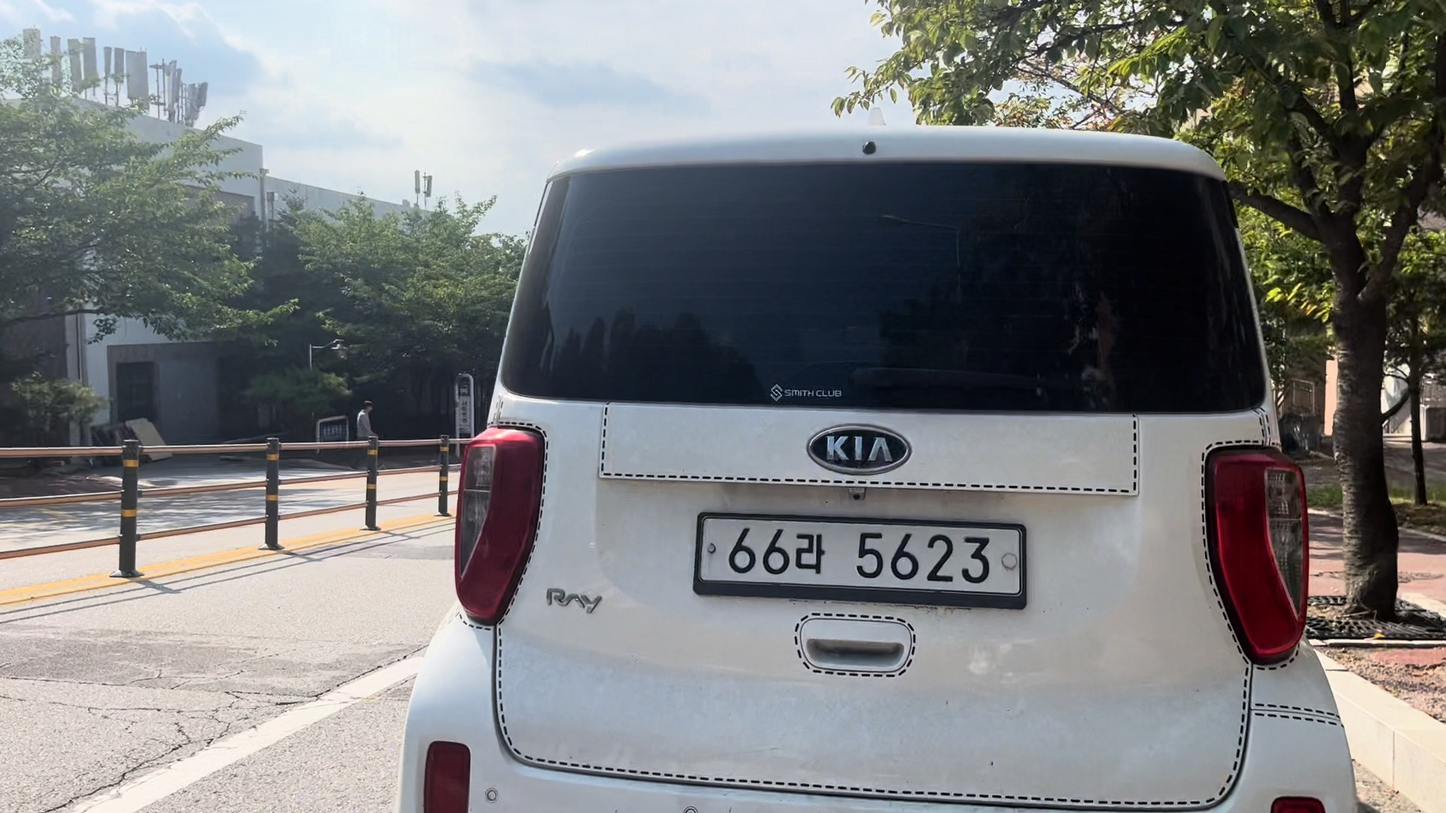car_emblem: (810, 427, 910, 473)
license_plate: (694, 514, 1025, 608)
tail_light: (1207, 449, 1308, 664), (456, 428, 545, 625), (423, 741, 469, 812), (1271, 798, 1324, 812)
